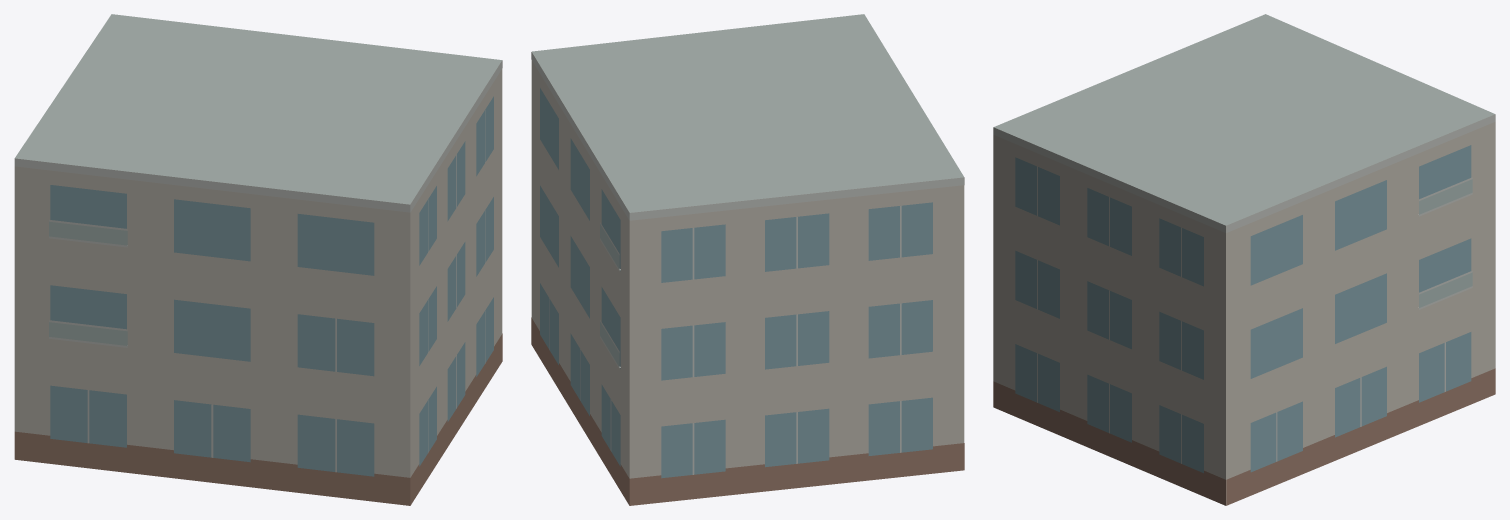
The model's file is survey-upis-32679473.glb.
The picture shows the model from 3 angles, left to right: view 1: azimuth 30°, elevation 25°; view 2: azimuth 150°, elevation 25°; view 3: azimuth 270°, elevation 25°; orthographic projection. The views are drawn at different scales.
Visible parts, largest first — view 1: survey-upis-32679473.tmp; view 2: survey-upis-32679473.tmp; view 3: survey-upis-32679473.tmp.
Part boxes in pixels (x1,y1,x2,y2): survey-upis-32679473.tmp: [14, 14, 502, 505]; survey-upis-32679473.tmp: [531, 14, 964, 505]; survey-upis-32679473.tmp: [993, 14, 1495, 505].
Size of the model in its own units: 14.84 by 9.15 by 14.87.
